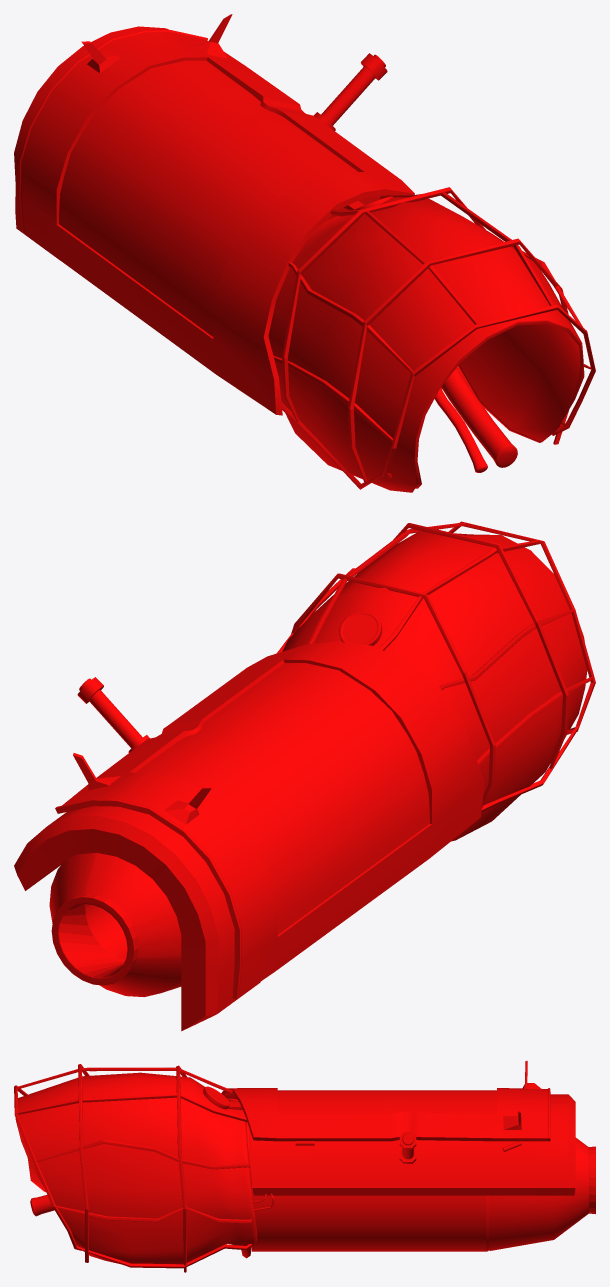
The model's file is mlasma_substance.fbx.
3 renders of one model, top to bottom at view 1: azimuth 30°, elevation 25°; view 2: azimuth 150°, elevation 25°; view 3: azimuth 270°, elevation 25°, orthographic. The views are drawn at different scales.
Visible parts, largest first — view 1: cover, coverglass, shielding, bar, polySurface9, polySurface11, outer, polySurface10, bolt, handle, polySurface8, polySurface7 (+3 smaller); view 2: coverglass, cover, shielding, outer, inner, nozzle, polySurface10, polySurface9, polySurface11, valve, bolt, polySurface7 (+4 smaller); view 3: cover, outer, inner, shielding, coverglass, polySurface7, polySurface10, polySurface9, polySurface5, polySurface8, polySurface3, polySurface1 (+4 smaller).
Boxes of the visible parts, left/top/right/bottom form: cover: left=268, top=197, right=584, bottom=492; coverglass: left=59, top=60, right=357, bottom=336; shielding: left=19, top=30, right=414, bottom=415; bar: left=441, top=368, right=517, bottom=467; polySurface9: left=348, top=238, right=568, bottom=482; polySurface11: left=382, top=304, right=595, bottom=478; outer: left=14, top=26, right=380, bottom=259; polySurface10: left=282, top=187, right=485, bottom=422; bolt: left=321, top=54, right=385, bottom=125; handle: left=434, top=387, right=487, bottom=472; polySurface8: left=330, top=209, right=479, bottom=324; polySurface7: left=380, top=192, right=553, bottom=305; coverglass: left=135, top=663, right=429, bottom=934; cover: left=282, top=531, right=587, bottom=841; shielding: left=55, top=641, right=484, bottom=998; outer: left=14, top=806, right=260, bottom=1031; inner: left=49, top=852, right=181, bottom=996; nozzle: left=51, top=893, right=138, bottom=985; polySurface10: left=291, top=573, right=495, bottom=808; polySurface9: left=393, top=523, right=568, bottom=769; polySurface11: left=448, top=521, right=595, bottom=734; valve: left=339, top=611, right=382, bottom=645; bolt: left=79, top=678, right=142, bottom=748; polySurface7: left=307, top=522, right=465, bottom=643; cover: left=15, top=1072, right=257, bottom=1264; outer: left=250, top=1094, right=575, bottom=1195; inner: left=252, top=1137, right=589, bottom=1251; shielding: left=221, top=1088, right=550, bottom=1141; coverglass: left=277, top=1090, right=496, bottom=1113; polySurface7: left=17, top=1094, right=247, bottom=1121; polySurface10: left=176, top=1065, right=187, bottom=1272; polySurface9: left=78, top=1064, right=89, bottom=1262; polySurface5: left=36, top=1140, right=250, bottom=1169; polySurface8: left=16, top=1067, right=233, bottom=1094; polySurface3: left=55, top=1205, right=252, bottom=1223; polySurface1: left=77, top=1244, right=251, bottom=1268.
Bounding box in the file's own units: 11.34 × 10.18 × 30.73.
